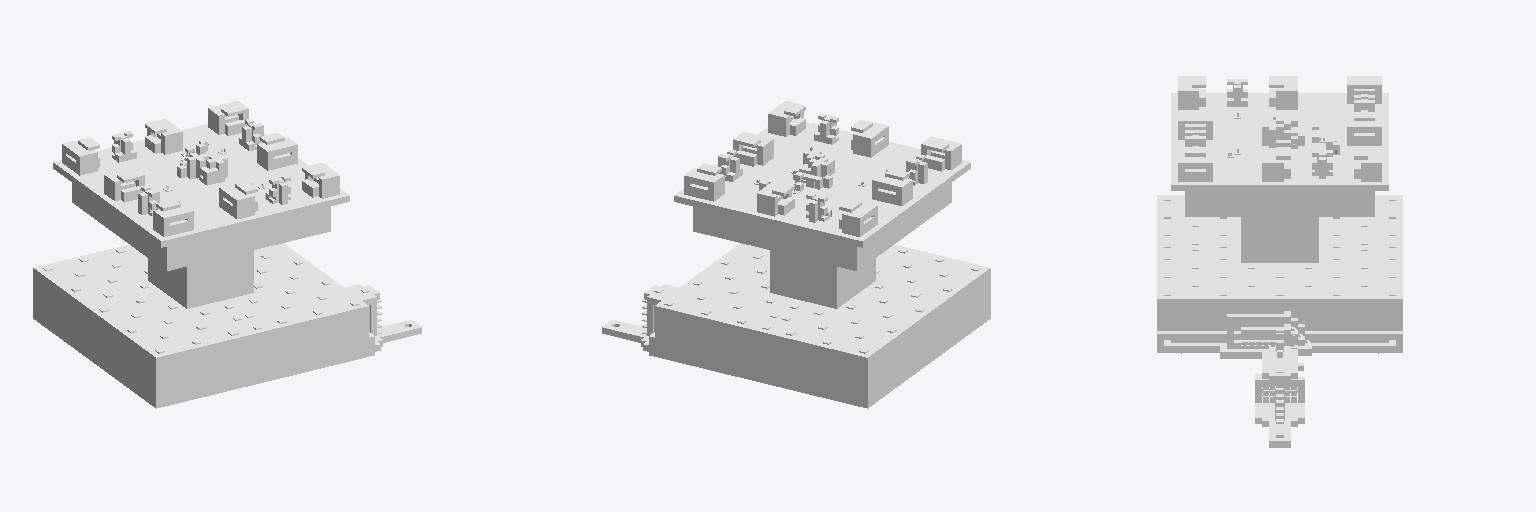
Rendered from goon.obj.
The picture shows the model from 3 angles: view 1: azimuth 30°, elevation 25°; view 2: azimuth 150°, elevation 25°; view 3: azimuth 270°, elevation 25°; orthographic projection.
Parts seen in each view (by area): view 1: Etho's_LP_Ep550__371_182_616_to_528_255_727; view 2: Etho's_LP_Ep550__371_182_616_to_528_255_727; view 3: Etho's_LP_Ep550__371_182_616_to_528_255_727.
Boxes of the visible parts, box(x1,y1,x2,y2) form: Etho's_LP_Ep550__371_182_616_to_528_255_727: box(33, 101, 421, 408); Etho's_LP_Ep550__371_182_616_to_528_255_727: box(602, 101, 990, 408); Etho's_LP_Ep550__371_182_616_to_528_255_727: box(1157, 76, 1402, 447).
Size of the model in its own units: 53 by 35.5 by 35.